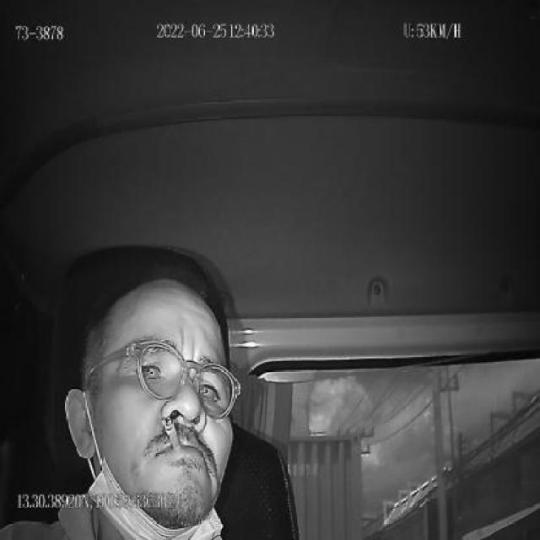smoking: (160, 414, 181, 449)
